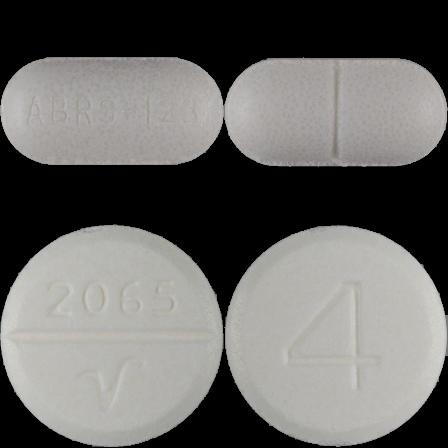68084-360: (0, 0, 224, 224)
